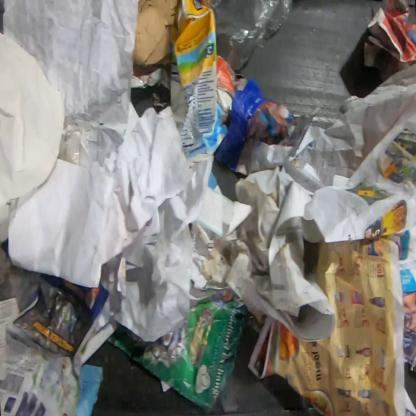cardboard: (105, 282, 249, 415), (170, 0, 230, 161), (133, 0, 181, 69), (216, 54, 248, 113), (130, 67, 170, 109)
soft_plastic: (201, 0, 293, 72), (56, 132, 82, 167)
